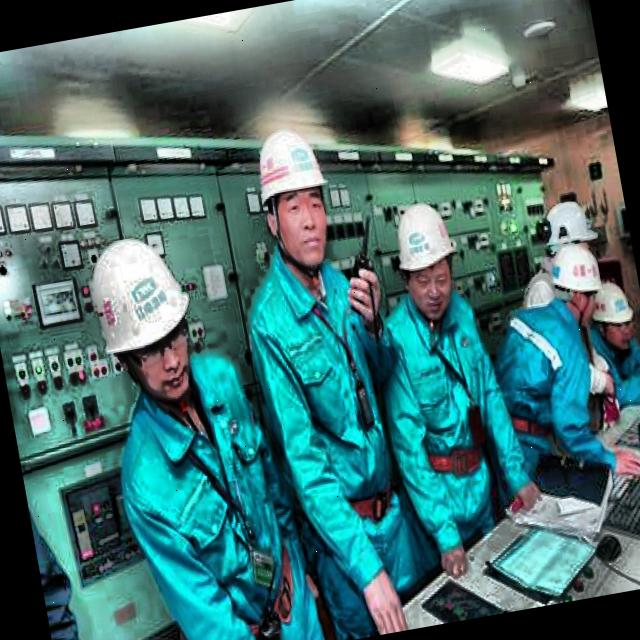helmet: (76, 214, 213, 416), (238, 114, 340, 286), (385, 188, 468, 322), (540, 196, 605, 287), (548, 236, 608, 322), (590, 276, 639, 351)
